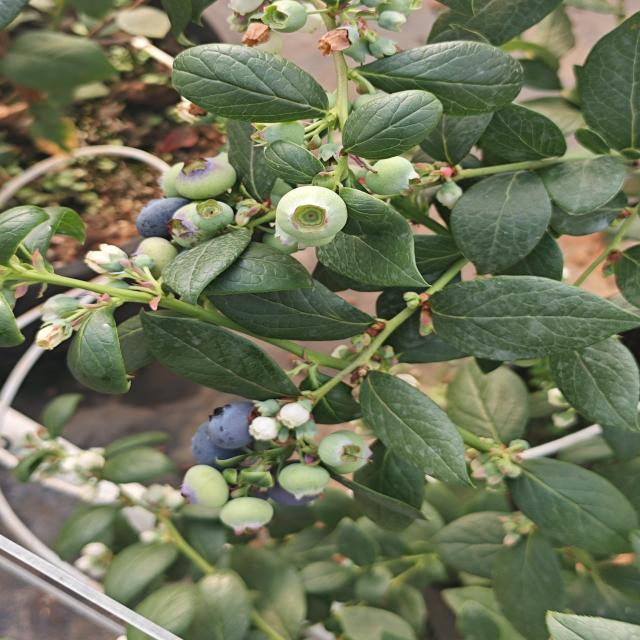ripe: (187, 428, 253, 470), (261, 472, 315, 519), (197, 396, 250, 441), (130, 198, 184, 235)
